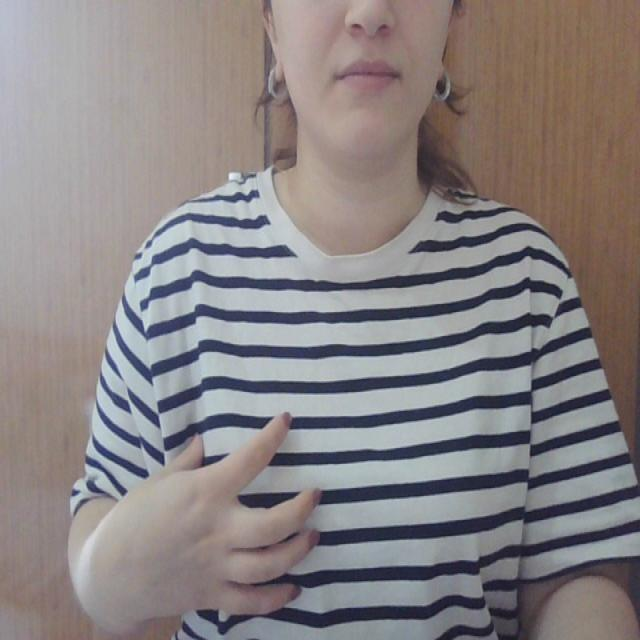Anne: (134, 404, 517, 620)
